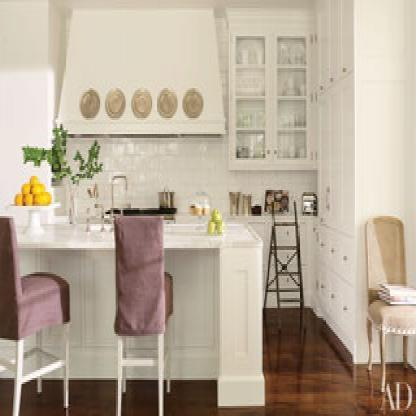chair: (104, 214, 184, 416), (0, 215, 69, 416), (364, 212, 416, 400)
table: (0, 219, 259, 411)
